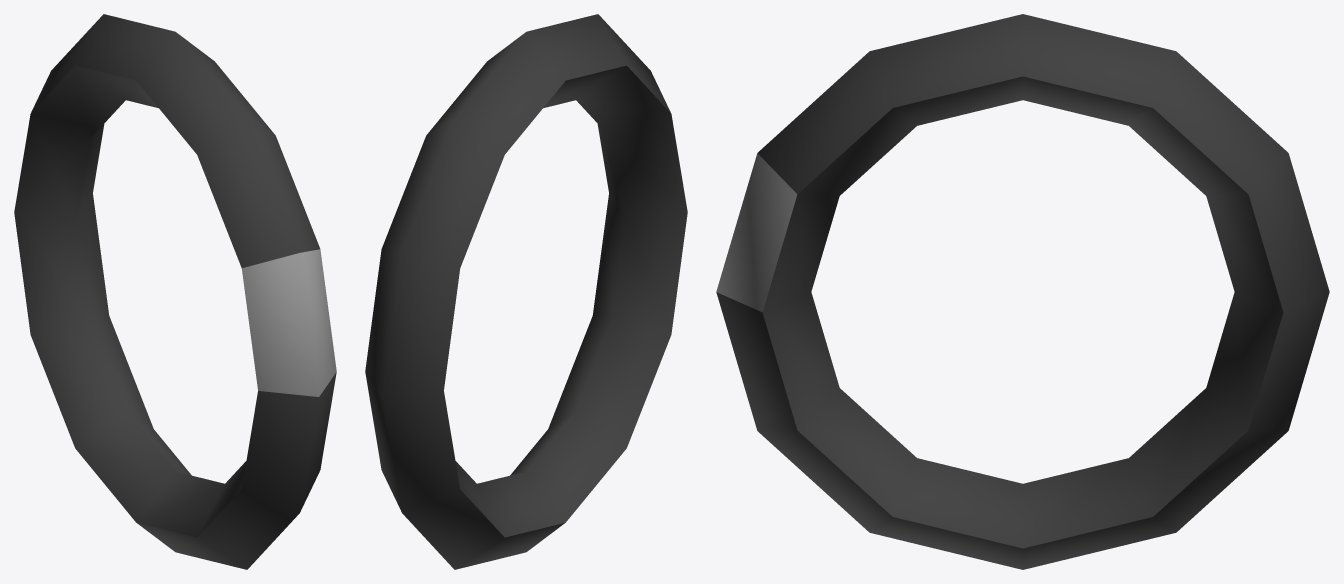
Rendered from earrings_hoop1.fbx.
3 views of the same model, side by side, from view 1: azimuth 30°, elevation 25°; view 2: azimuth 150°, elevation 25°; view 3: azimuth 270°, elevation 25° (orthographic). The views are drawn at different scales.
Visible parts, largest first — view 1: earrings_hoop1; view 2: earrings_hoop1; view 3: earrings_hoop1.
Part boxes in pixels (<box>): earrings_hoop1: <box>14,14,336,569</box>; earrings_hoop1: <box>365,14,687,569</box>; earrings_hoop1: <box>716,14,1329,569</box>.
Size of the model in its own units: 4.07 by 25.75 by 25.75.
1 material, 1 textured.
